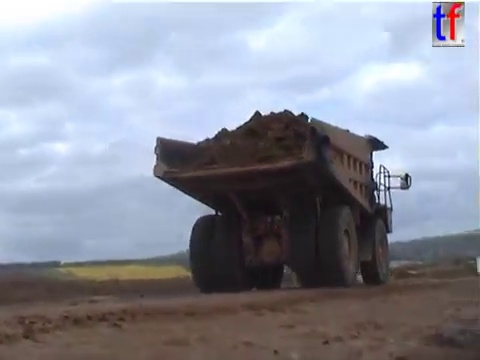truck: (150, 114, 415, 295)
